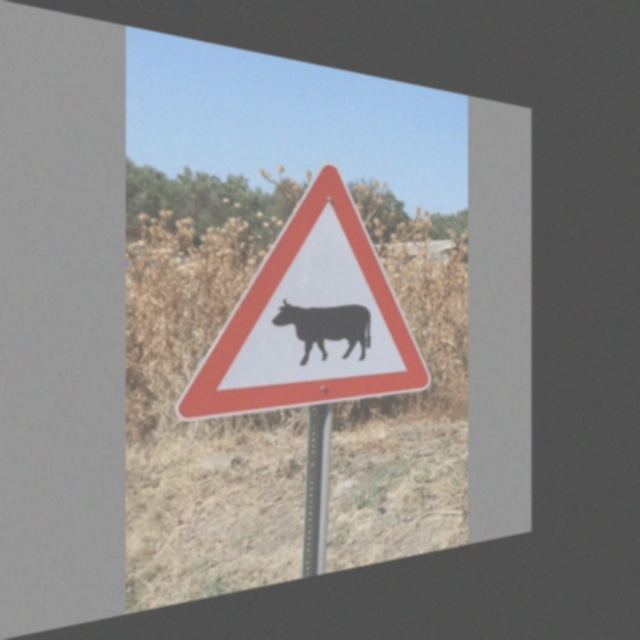Cattle: (191, 150, 432, 419)
